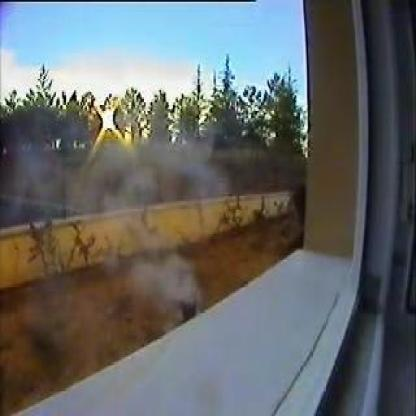-: (139, 256, 196, 300)
